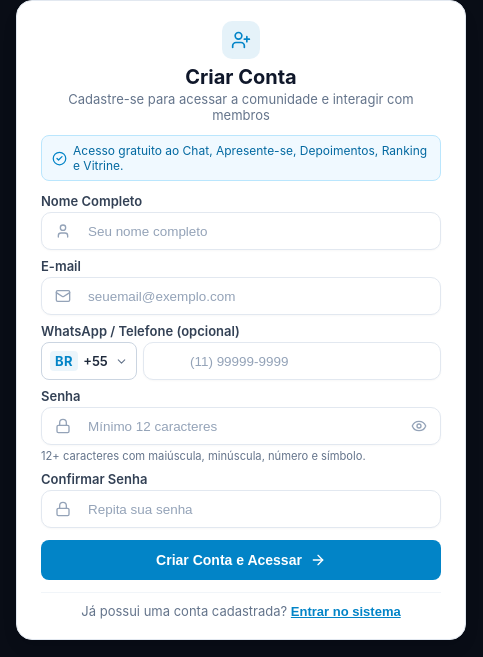
Test case: PublicRegisterCard Component › formats Brazilian phone number automatically on user input
Type "11988887777" into the field with test id "register-phone-input" at (292, 361), box [143,342,441,380]
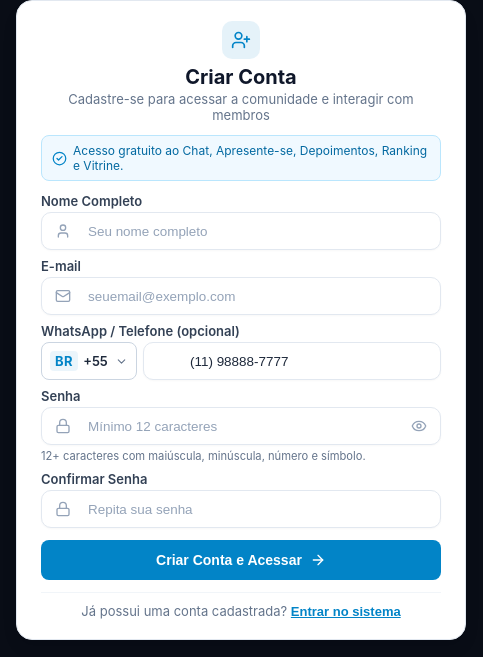
expect the field with test id "register-phone-input" holds "(11) 98888-7777": met, box [143,342,441,380]
